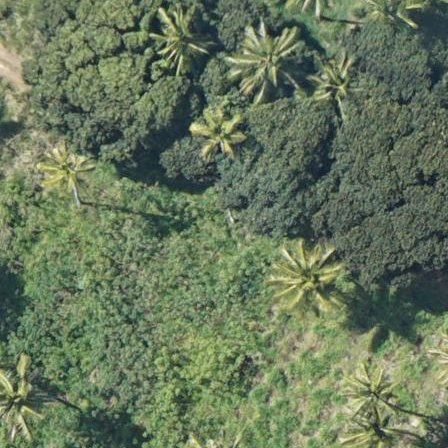palm_tree: (266, 233, 345, 317), (230, 21, 305, 95), (340, 351, 408, 423), (1, 355, 53, 439), (184, 94, 245, 159), (148, 8, 209, 67), (311, 56, 369, 112), (38, 147, 94, 198)
